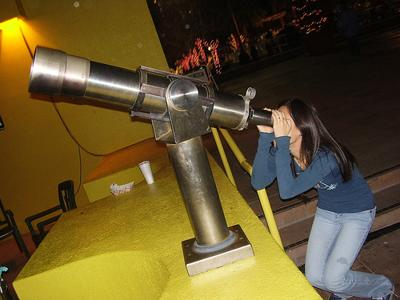person: (253, 98, 395, 299)
